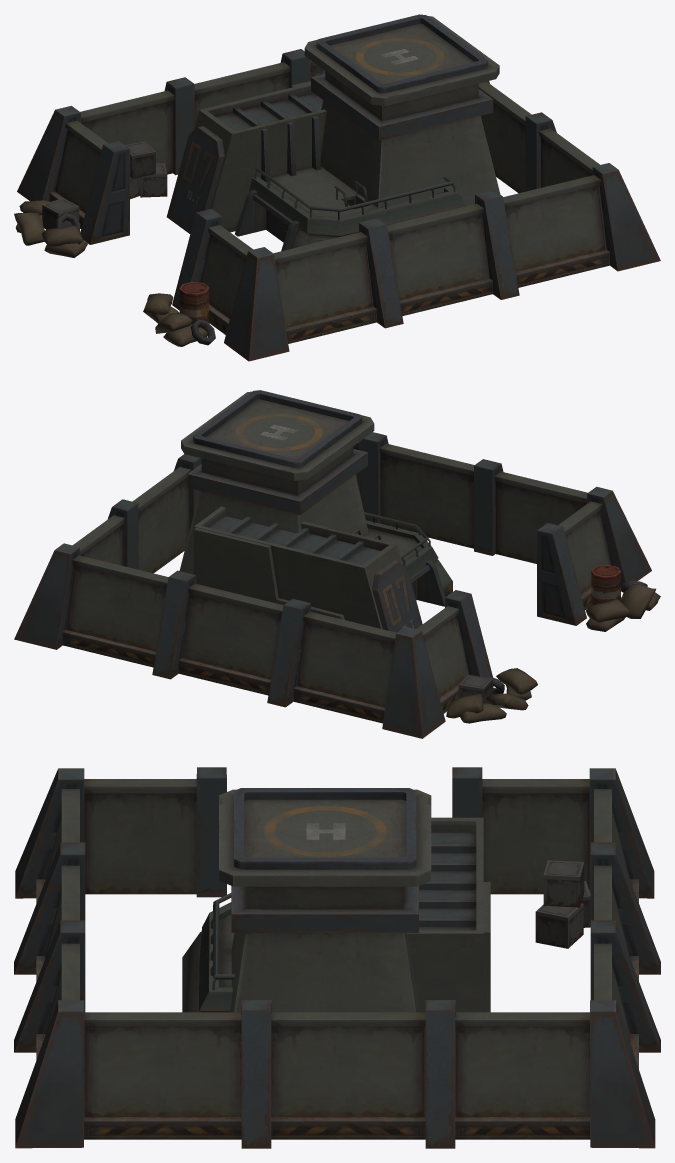
The model's file is wm_shelter.FBX.
3 renders of one model, top to bottom at view 1: azimuth 30°, elevation 25°; view 2: azimuth 150°, elevation 25°; view 3: azimuth 270°, elevation 25°, orthographic. The views are drawn at different scales.
Parts seen in each view (by area): view 1: wm_shelter; view 2: wm_shelter; view 3: wm_shelter.
Part boxes in pixels (<box>): wm_shelter: <box>14,14,660,361</box>; wm_shelter: <box>14,390,660,738</box>; wm_shelter: <box>14,767,660,1148</box>.
Size of the model in its own units: 1.58 by 0.5411 by 1.39.
1 material, 1 textured.
